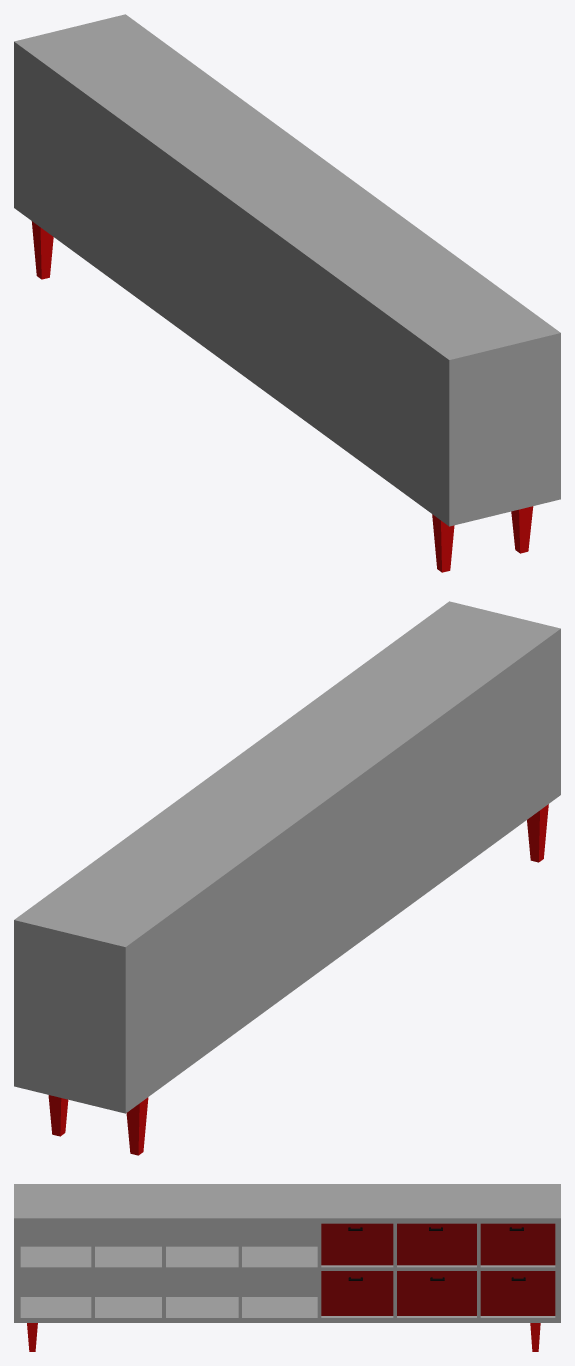
The model's file is Sideboard-Empty_01.fbx.
The picture shows the model from 3 angles, top to bottom: view 1: azimuth 30°, elevation 25°; view 2: azimuth 150°, elevation 25°; view 3: azimuth 270°, elevation 25°; orthographic projection. The views are drawn at different scales.
Visible parts, largest first — view 1: Sideboard-Empty_01; view 2: Sideboard-Empty_01; view 3: Sideboard-Empty_01.
Boxes of the visible parts, <box> form: Sideboard-Empty_01: <box>14,14,560,572</box>; Sideboard-Empty_01: <box>14,601,560,1155</box>; Sideboard-Empty_01: <box>14,1184,560,1351</box>.
Size of the model in its own units: 0.5804 by 1.1 by 3.88.
